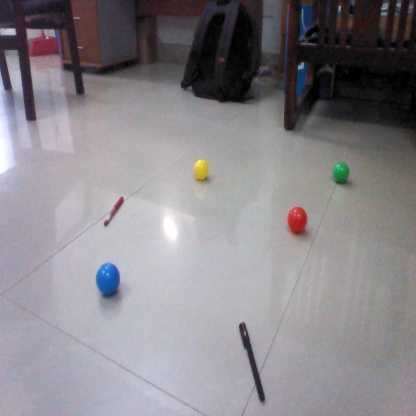ball: (94, 262, 127, 296), (285, 205, 310, 231), (335, 159, 352, 180), (192, 158, 210, 177)
pen: (235, 323, 268, 403), (104, 198, 128, 225)
